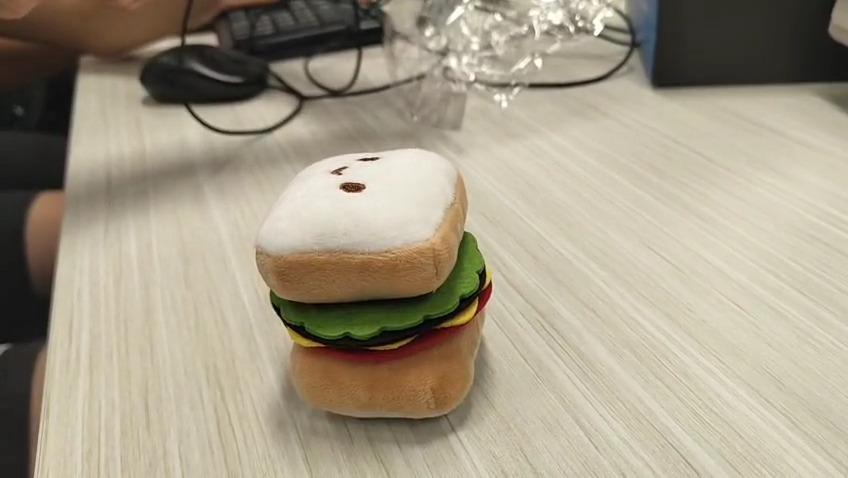objects: (256, 147, 492, 419)
